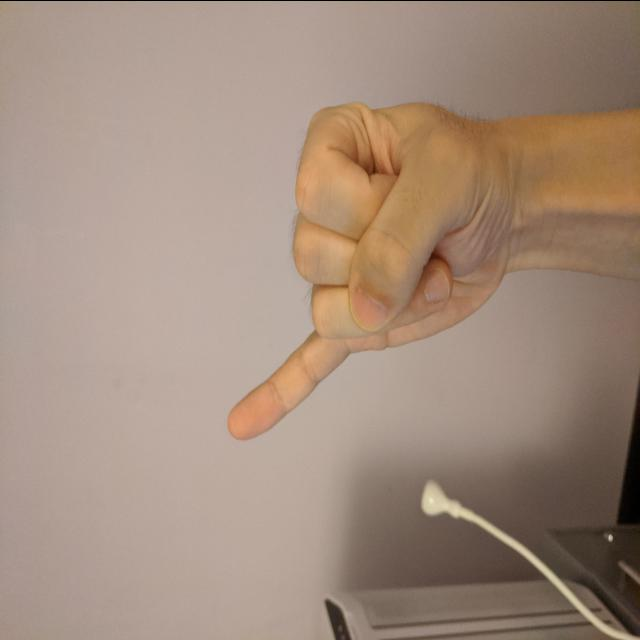I: (222, 87, 519, 446)
